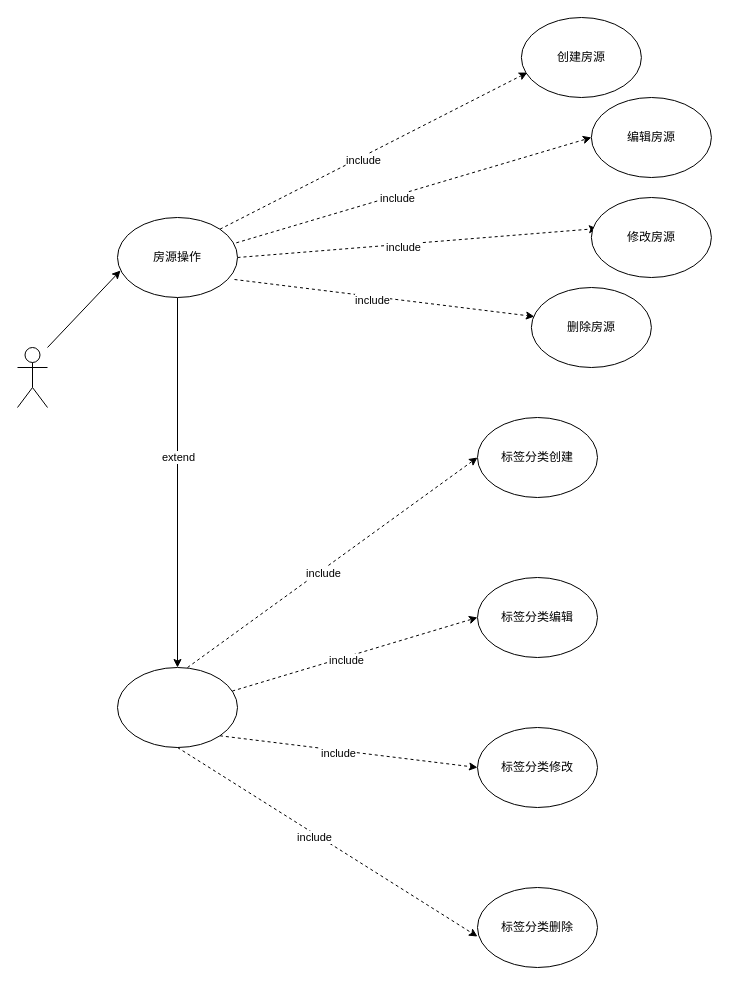
The diagram is 729 pixels wide and 985 high, and some of its shapes have lost their labels. Here are the shapes that lost their labels. From the top down, the centre of each, then its label:
At point 32,377: "房东".
At point 177,707: "房源标签".
